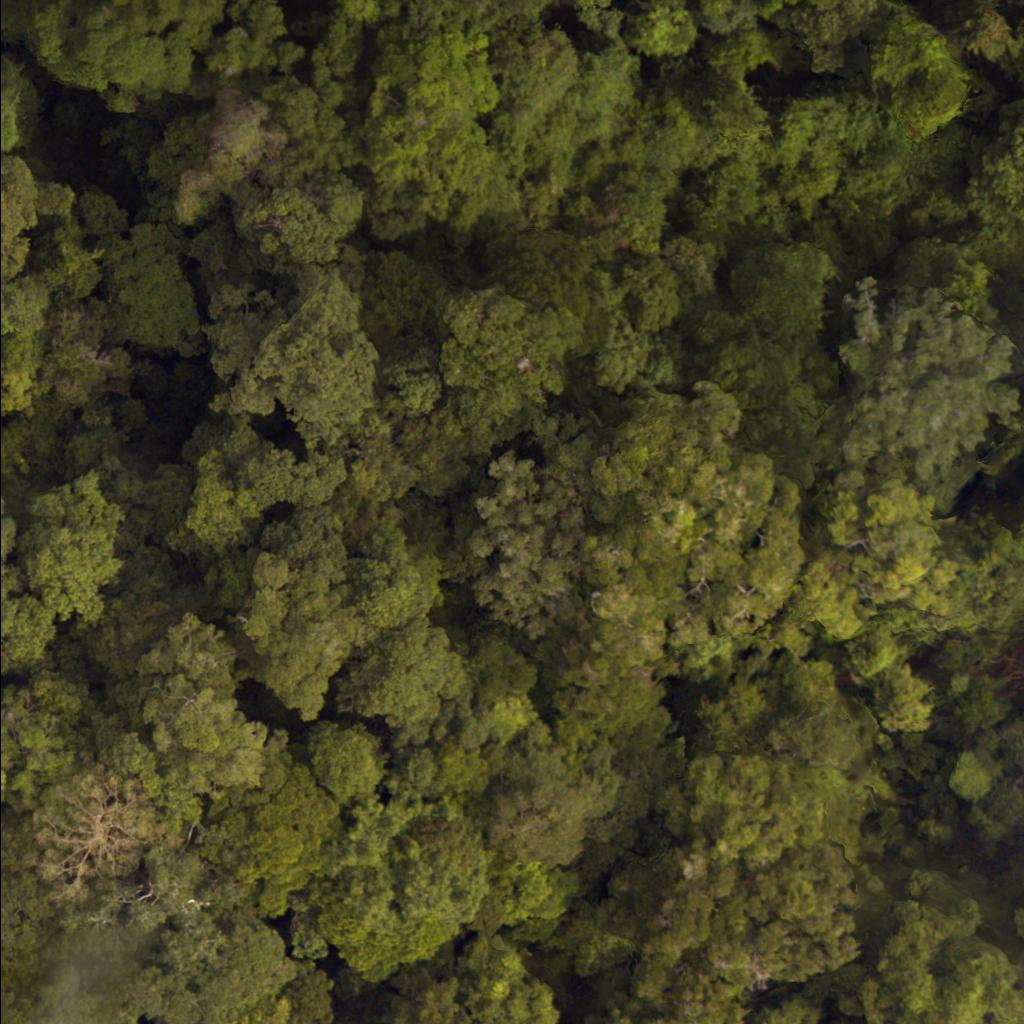crown: (826, 270, 1023, 477), (127, 621, 296, 811), (204, 266, 382, 446), (458, 417, 601, 638), (355, 30, 509, 234), (490, 33, 639, 208), (693, 246, 837, 422), (66, 188, 209, 361), (214, 769, 344, 936), (436, 293, 583, 433), (241, 547, 363, 711), (480, 754, 595, 866), (403, 945, 559, 1023), (498, 230, 612, 336), (182, 107, 284, 213), (965, 117, 1023, 263), (0, 825, 52, 979), (623, 0, 703, 63), (0, 159, 41, 280), (0, 55, 39, 170), (461, 0, 563, 39), (0, 284, 44, 342), (0, 491, 20, 577), (0, 363, 35, 411), (560, 0, 619, 13)
